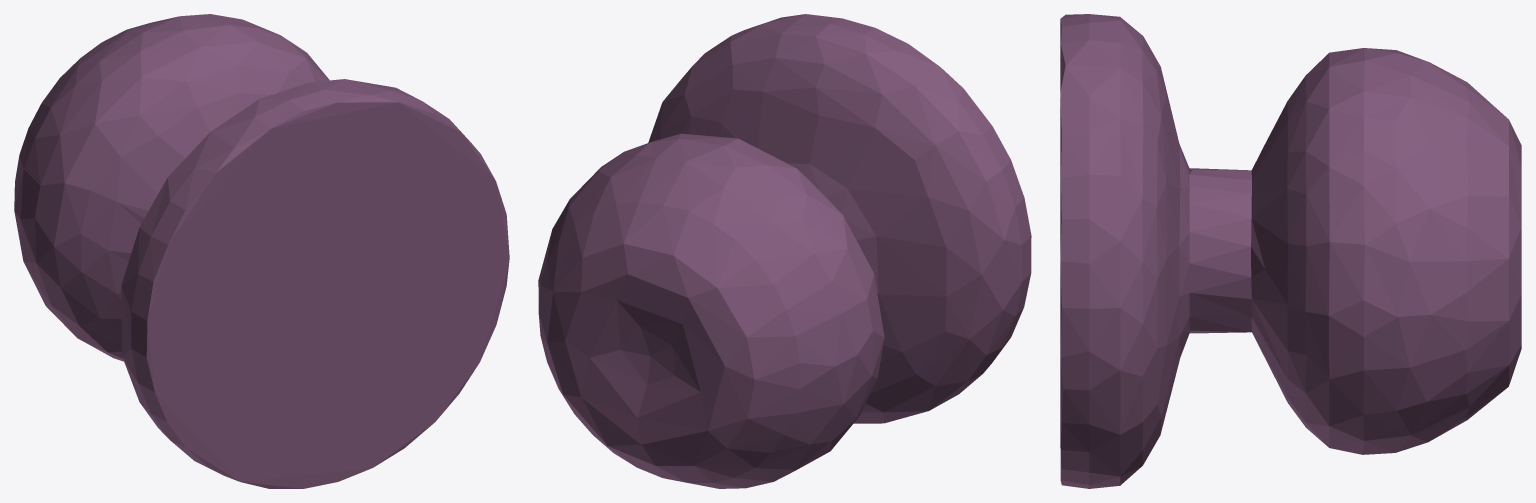
Rendered from BézierCurve.004.glb.
3 views of the same model, side by side, from view 1: azimuth 30°, elevation 25°; view 2: azimuth 150°, elevation 25°; view 3: azimuth 270°, elevation 25° (orthographic). The views are drawn at different scales.
Parts seen in each view (by area): view 1: BézierCurve.005; view 2: BézierCurve.005; view 3: BézierCurve.005.
Boxes of the visible parts, box(x1,y1,x2,y2) form: BézierCurve.005: box(14, 14, 509, 488); BézierCurve.005: box(538, 14, 1031, 488); BézierCurve.005: box(1060, 14, 1521, 488).
Bounding box in the file's own units: 0.0861 × 0.0862 × 0.0837.
